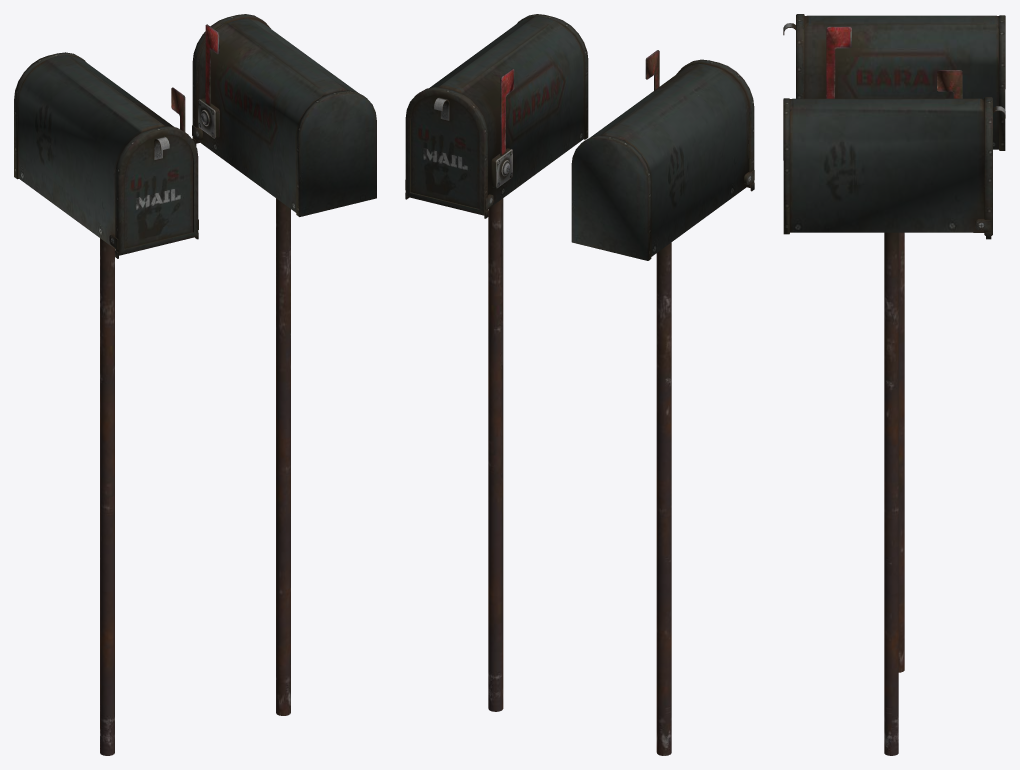
File: mailbox_twin.glb
The picture shows the model from 3 angles, left to right: view 1: azimuth 30°, elevation 25°; view 2: azimuth 150°, elevation 25°; view 3: azimuth 270°, elevation 25°; orthographic projection.
Visible parts, largest first — view 1: BOX_MAIL_1_w; view 2: BOX_MAIL_1_w; view 3: BOX_MAIL_1_w.
Part boxes in pixels (box(x1,y1,x2,y2)): BOX_MAIL_1_w: box(14, 14, 376, 755); BOX_MAIL_1_w: box(405, 14, 754, 755); BOX_MAIL_1_w: box(783, 14, 1005, 755).
Size of the model in its own units: 0.4744 by 1.2 by 0.3646.
Materials: 1 (1 with a texture image).
